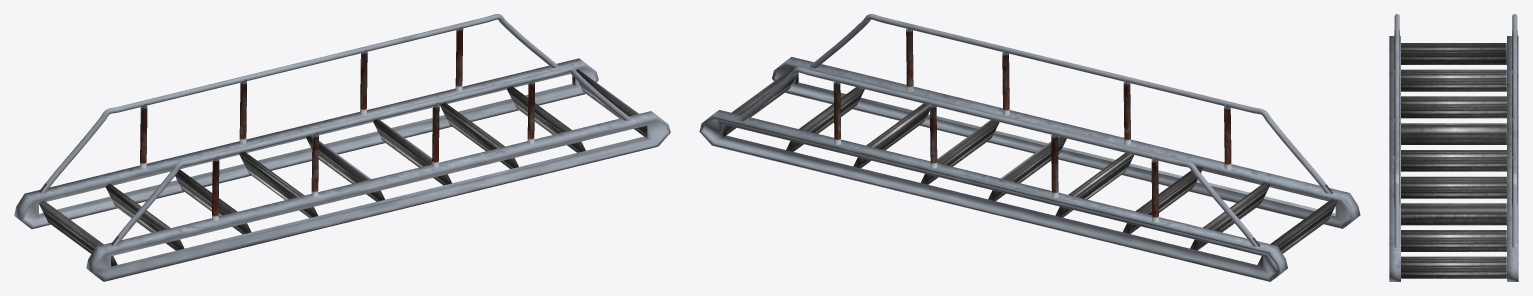
The model's file is Ladder1.obj.
3 renders of one model, left to right at view 1: azimuth 30°, elevation 25°; view 2: azimuth 150°, elevation 25°; view 3: azimuth 270°, elevation 25°, orthographic. The views are drawn at different scales.
Visible parts, largest first — view 1: Ladder1.obj; view 2: Ladder1.obj; view 3: Ladder1.obj.
Boxes of the visible parts, x1,y1,x2,y2 form: Ladder1.obj: [14, 14, 670, 281]; Ladder1.obj: [699, 14, 1360, 281]; Ladder1.obj: [1389, 14, 1518, 281].
Size of the model in its own units: 13.9 by 2.23 by 3.3.
